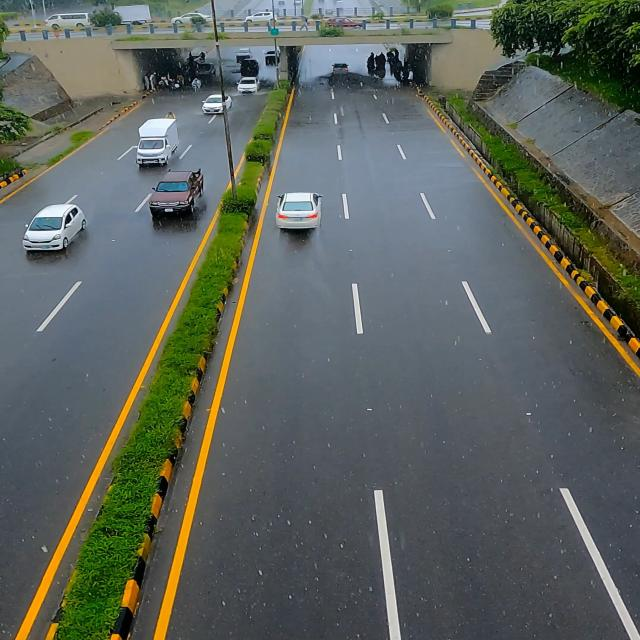Car: (17, 202, 88, 260), (146, 168, 208, 224), (129, 116, 184, 172), (265, 187, 323, 235)
